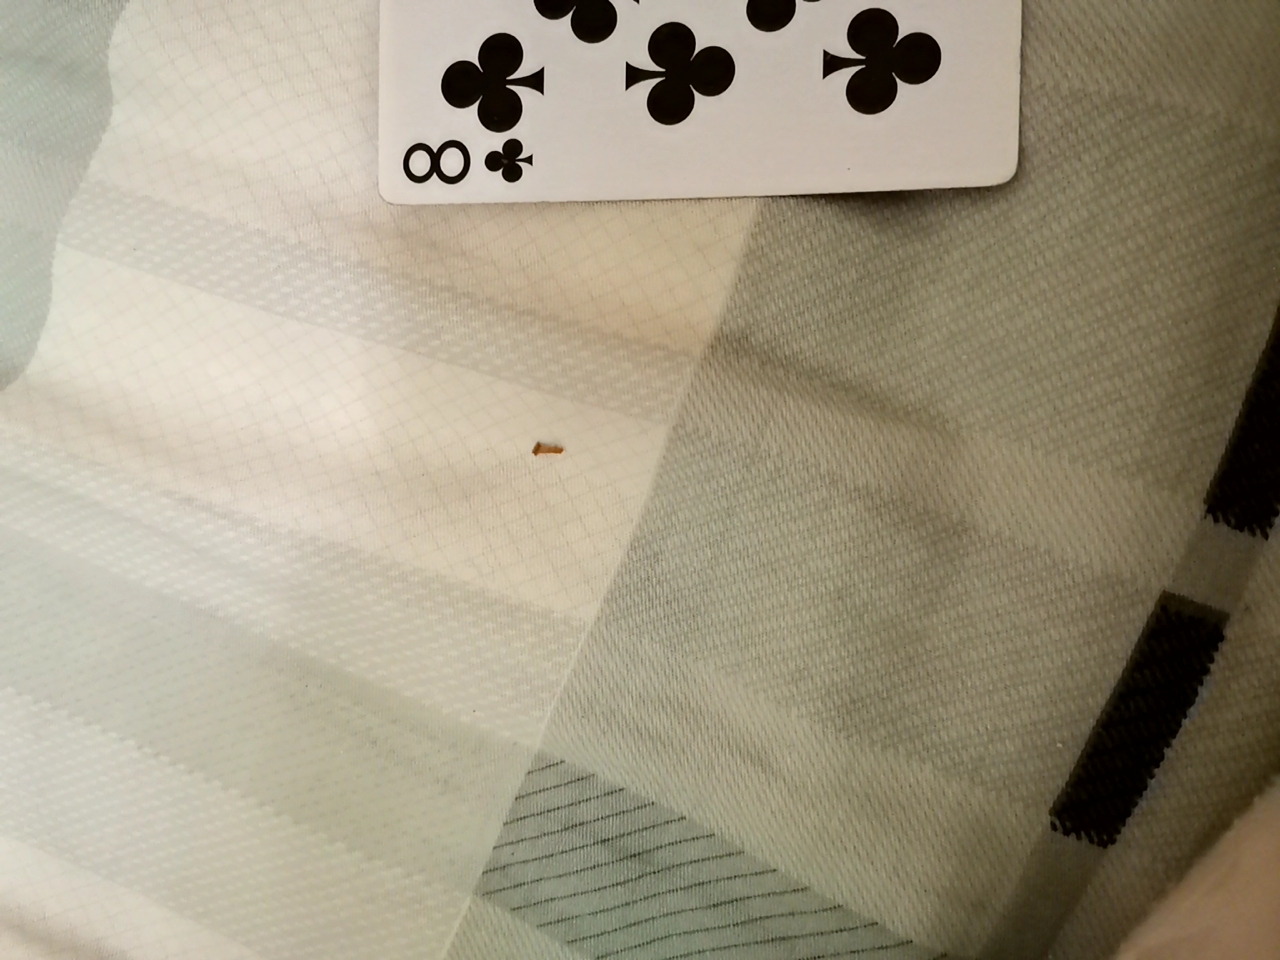mh 8: (322, 0, 1023, 207)
